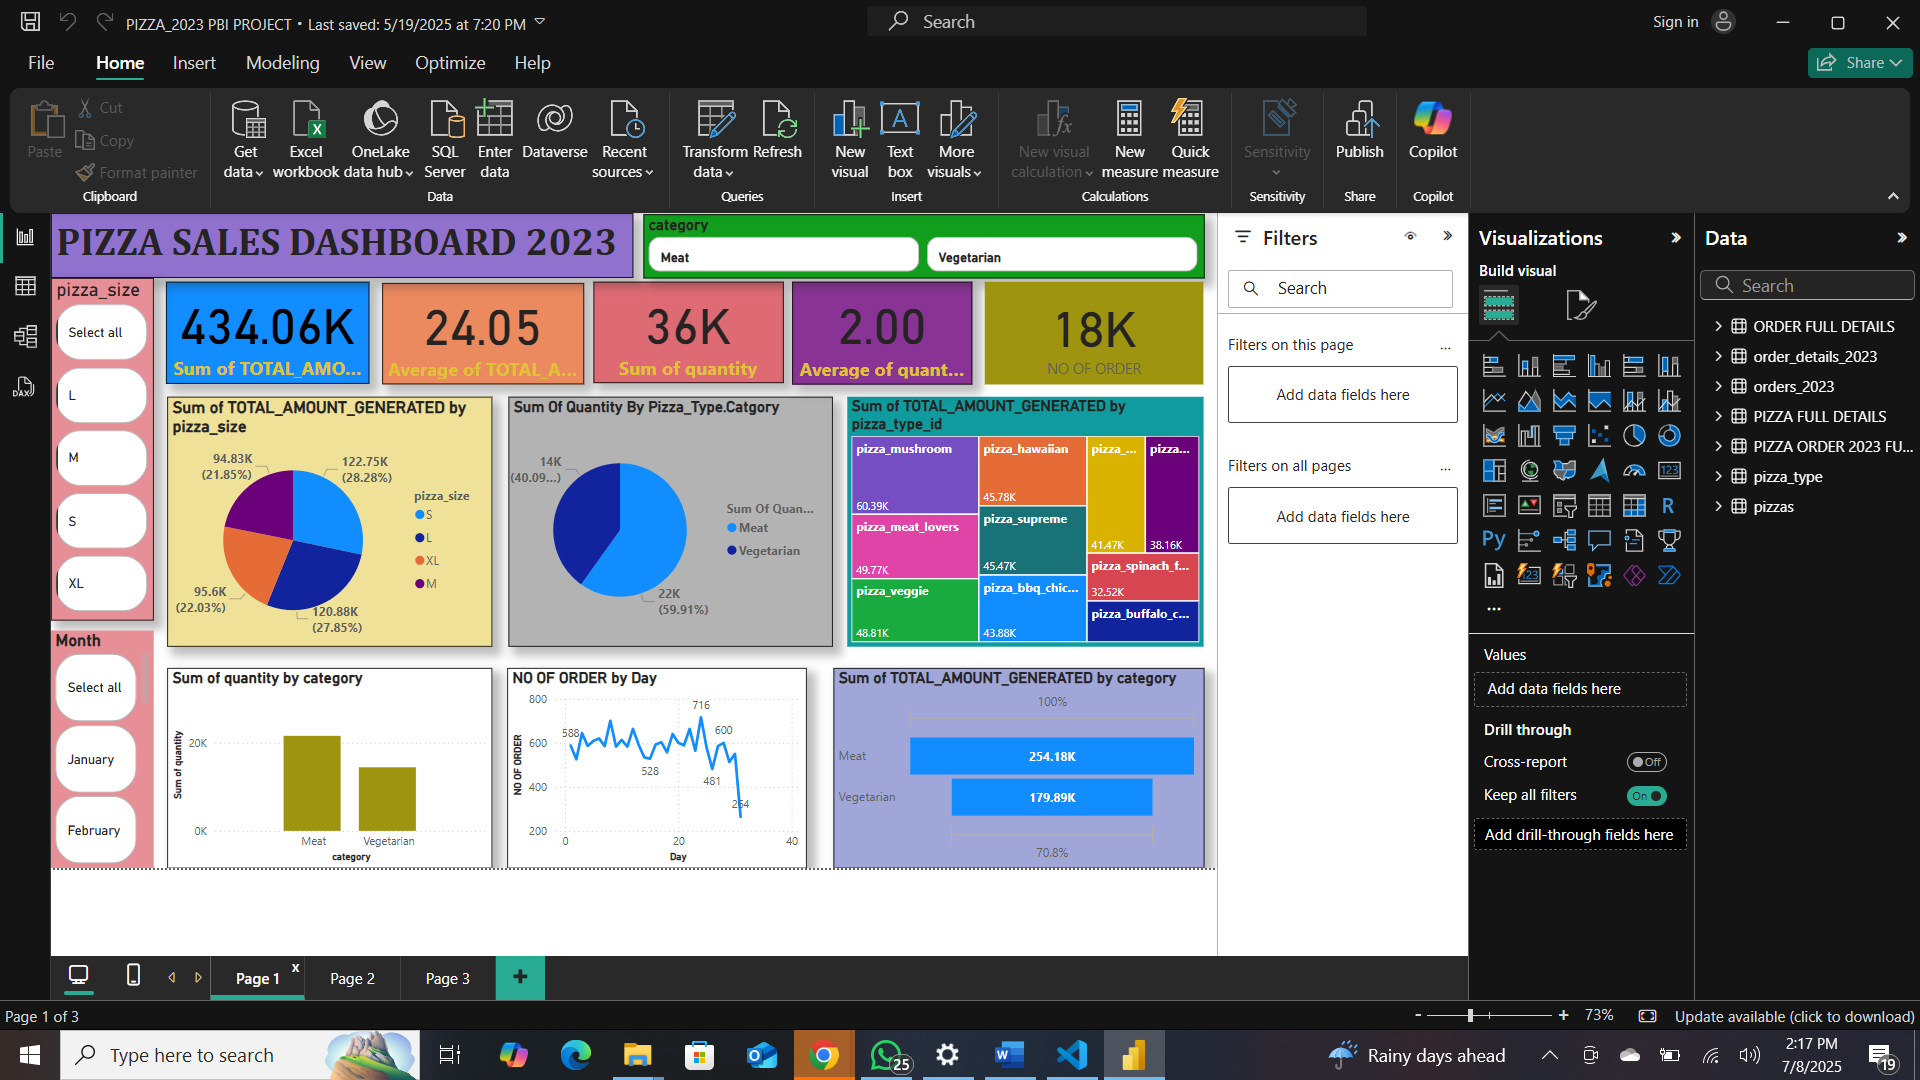

What the dashboard file says about the page in this screenshot:
{"tool":"powerbi","page":{"name":"Page 1","canvas":[1280,720],"ordinal":0},"visuals":[{"type":"card","fields":{"Values":["Sum(PIZZA ORDER 2023 FULL DETAILS.TOTAL_AMOUNT_GENERATED)"]},"box":[126.7,75,223.3,111.7],"z":0},{"type":"card","fields":{"Values":["Avg(PIZZA ORDER 2023 FULL DETAILS.TOTAL_AMOUNT_GENERATED)"]},"box":[364.3,77.1,221.4,111.4],"z":1000},{"type":"card","fields":{"Values":["Sum(PIZZA ORDER 2023 FULL DETAILS.quantity)"]},"box":[595.7,75.7,208.6,111.4],"z":2000},{"type":"lineChart","fields":{"Y":["PIZZA ORDER 2023 FULL DETAILS.NO OF ORDER"],"Category":["orders_2023.order_date.Variation.Date Hierarchy.Day"]},"box":[501.4,500,328.6,220],"z":3000},{"type":"pieChart","title":"Sum Of Quantity By Pizza_Type.Catgory","fields":{"Category":["PIZZA ORDER 2023 FULL DETAILS.category"],"Y":["Sum(PIZZA ORDER 2023 FULL DETAILS.quantity)"]},"box":[502.9,201.4,355.7,274.3],"z":4000},{"type":"treemap","fields":{"Values":["Sum(PIZZA ORDER 2023 FULL DETAILS.TOTAL_AMOUNT_GENERATED)"],"Details":["PIZZA ORDER 2023 FULL DETAILS.pizza_type_id"]},"box":[874.3,201.4,391.4,274.3],"z":5000},{"type":"clusteredColumnChart","fields":{"Category":["PIZZA ORDER 2023 FULL DETAILS.category"],"Y":["Sum(PIZZA ORDER 2023 FULL DETAILS.quantity)"]},"box":[127.1,500,357.1,220],"z":6000},{"type":"pieChart","fields":{"Y":["Sum(PIZZA ORDER 2023 FULL DETAILS.TOTAL_AMOUNT_GENERATED)"],"Category":["PIZZA ORDER 2023 FULL DETAILS.pizza_size"]},"box":[127.1,201.4,357.1,274.3],"z":7000},{"type":"textbox","box":[0,0,639.5,71.4],"z":8000},{"type":"card","fields":{"Values":["Avg(PIZZA ORDER 2023 FULL DETAILS.quantity)"]},"box":[813.7,75.5,197.6,112.5],"z":9000},{"type":"advancedSlicerVisual","fields":{"Values":["PIZZA ORDER 2023 FULL DETAILS.pizza_size"]},"box":[0,71.4,112.5,376],"z":10000},{"type":"funnel","fields":{"Y":["Sum(PIZZA ORDER 2023 FULL DETAILS.TOTAL_AMOUNT_GENERATED)"],"Category":["PIZZA ORDER 2023 FULL DETAILS.category"]},"box":[858.6,500,407.1,220],"z":11000},{"type":"advancedSlicerVisual","fields":{"Values":["PIZZA ORDER 2023 FULL DETAILS.order_date.Variation.Date Hierarchy.Month"]},"box":[0,458.6,112.9,261.4],"z":12000},{"type":"advancedSlicerVisual","fields":{"Values":["PIZZA ORDER 2023 FULL DETAILS.category"]},"box":[650,1.4,615.7,70],"z":13000},{"type":"card","fields":{"Values":["PIZZA ORDER 2023 FULL DETAILS.NO OF ORDER"]},"box":[1025,75.5,240.1,112.5],"z":14000}]}

Visuals, with their boxes on the page's 1280x720 design canvas (x1, y1, x2, y2). These are canvas units, not pixel positions in the 1920x1080 screenshot, which may show the page scaled, cropped or inside an application window:
card - Sum(PIZZA ORDER 2023 FULL DETAILS.TOTAL_AMOUNT_GENERATED): rect(127, 75, 350, 187)
card - Avg(PIZZA ORDER 2023 FULL DETAILS.TOTAL_AMOUNT_GENERATED): rect(364, 77, 586, 188)
card - Sum(PIZZA ORDER 2023 FULL DETAILS.quantity): rect(596, 76, 804, 187)
lineChart - PIZZA ORDER 2023 FULL DETAILS.NO OF ORDER x orders_2023.order_date.Variation.Date Hierarchy.Day: rect(501, 500, 830, 720)
"Sum Of Quantity By Pizza_Type.Catgory" pieChart: rect(503, 201, 859, 476)
treemap - Sum(PIZZA ORDER 2023 FULL DETAILS.TOTAL_AMOUNT_GENERATED) x PIZZA ORDER 2023 FULL DETAILS.pizza_type_id: rect(874, 201, 1266, 476)
clusteredColumnChart - PIZZA ORDER 2023 FULL DETAILS.category x Sum(PIZZA ORDER 2023 FULL DETAILS.quantity): rect(127, 500, 484, 720)
pieChart - Sum(PIZZA ORDER 2023 FULL DETAILS.TOTAL_AMOUNT_GENERATED) x PIZZA ORDER 2023 FULL DETAILS.pizza_size: rect(127, 201, 484, 476)
textbox: rect(0, 0, 640, 71)
card - Avg(PIZZA ORDER 2023 FULL DETAILS.quantity): rect(814, 76, 1011, 188)
advancedSlicerVisual - PIZZA ORDER 2023 FULL DETAILS.pizza_size: rect(0, 71, 112, 447)
funnel - Sum(PIZZA ORDER 2023 FULL DETAILS.TOTAL_AMOUNT_GENERATED) x PIZZA ORDER 2023 FULL DETAILS.category: rect(859, 500, 1266, 720)
advancedSlicerVisual - PIZZA ORDER 2023 FULL DETAILS.order_date.Variation.Date Hierarchy.Month: rect(0, 459, 113, 720)
advancedSlicerVisual - PIZZA ORDER 2023 FULL DETAILS.category: rect(650, 1, 1266, 71)
card - PIZZA ORDER 2023 FULL DETAILS.NO OF ORDER: rect(1025, 76, 1265, 188)
